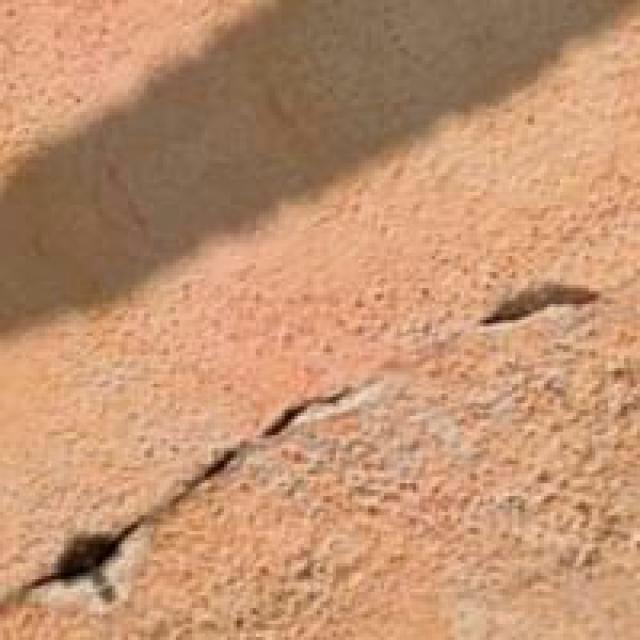SurfaceCrack: (4, 336, 372, 612), (474, 256, 630, 360)
